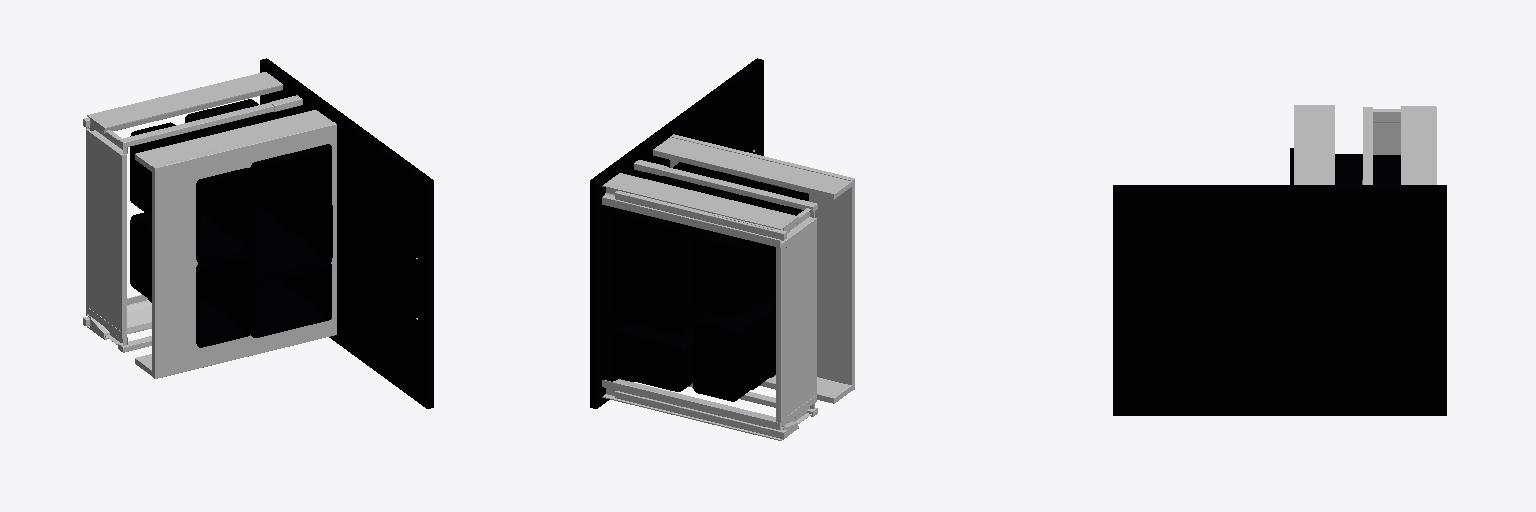
Rendered from Kitchen08SinkDrawer01.obj.
3 renders of one model, left to right at view 1: azimuth 30°, elevation 25°; view 2: azimuth 150°, elevation 25°; view 3: azimuth 270°, elevation 25°, orthographic.
Parts seen in each view (by area): view 1: Kitchen08SinkDrawer01; view 2: Kitchen08SinkDrawer01; view 3: Kitchen08SinkDrawer01.
Boxes of the visible parts, <box> form: Kitchen08SinkDrawer01: <box>83,58,433,408</box>; Kitchen08SinkDrawer01: <box>590,58,854,440</box>; Kitchen08SinkDrawer01: <box>1113,105,1446,415</box>.
Bounding box in the file's own units: 0.5199 × 0.5969 × 0.7949.